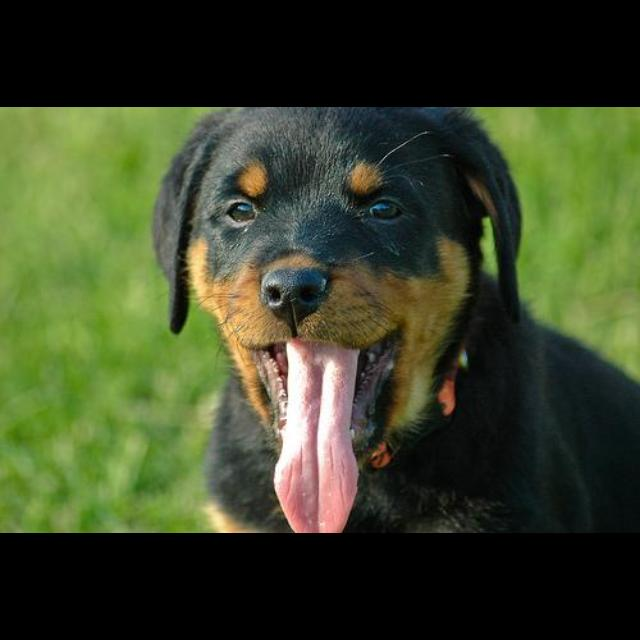rottweiler: (151, 108, 639, 532)
